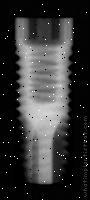Neoss: (11, 17, 74, 187)
